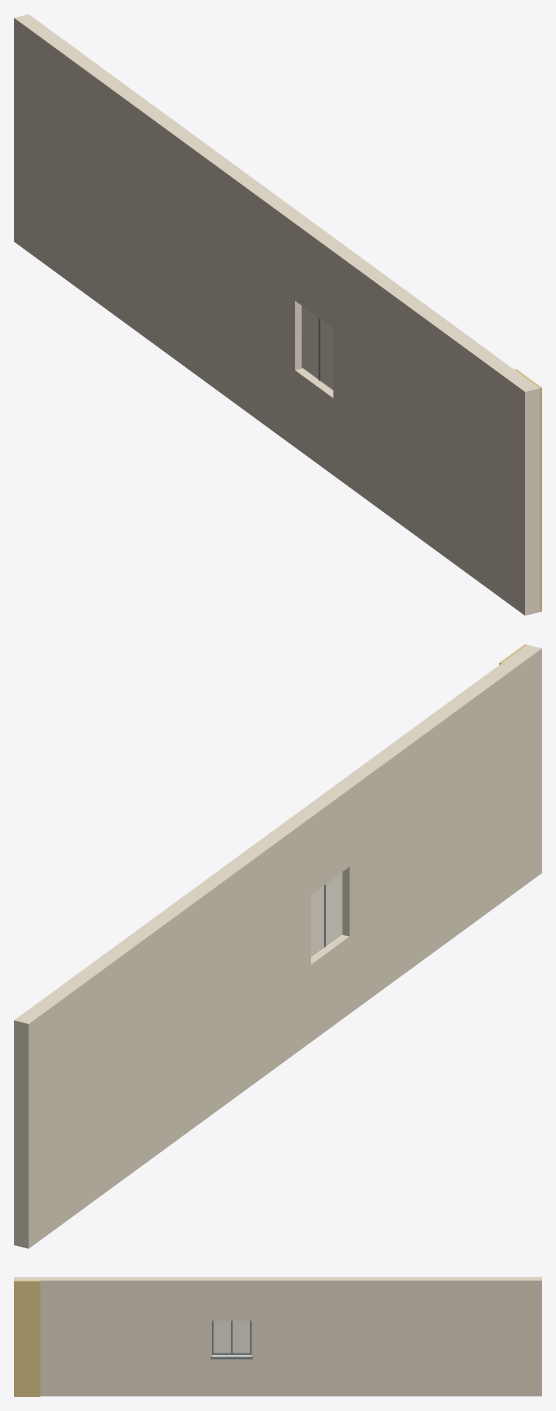
The model's file is tb_mansion_module_end_r_01.fbx.
3 renders of one model, top to bottom at view 1: azimuth 30°, elevation 25°; view 2: azimuth 150°, elevation 25°; view 3: azimuth 270°, elevation 25°, orthographic. The views are drawn at different scales.
Visible parts, largest first — view 1: tb_mansion_module_end_r_01; view 2: tb_mansion_module_end_r_01; view 3: tb_mansion_module_end_r_01.
Part boxes in pixels (left/top/right/bottom): tb_mansion_module_end_r_01: left=14, top=14, right=541, bottom=615; tb_mansion_module_end_r_01: left=14, top=644, right=541, bottom=1248; tb_mansion_module_end_r_01: left=14, top=1277, right=541, bottom=1396.
Size of what is drawn, in the model's own units: 0.25 by 2.9 by 12.
Materials: 2 (2 with a texture image).
